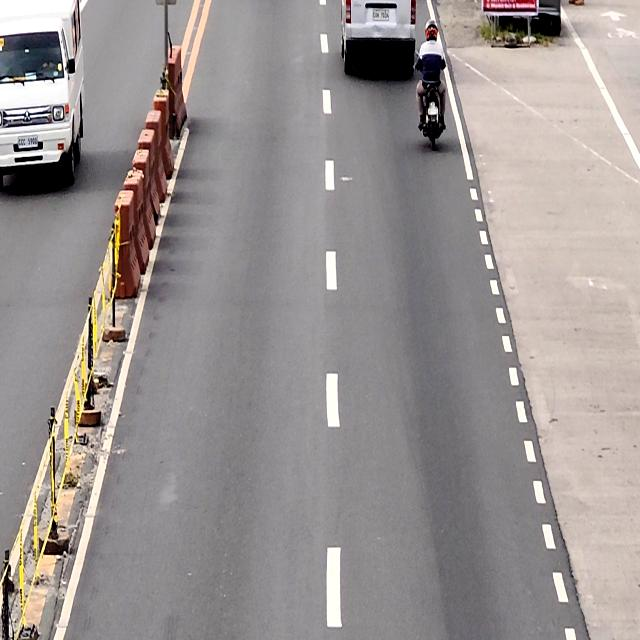Car: (339, 0, 417, 72)
License-Plate: (372, 9, 389, 21), (428, 106, 438, 115)
Motorcycle: (416, 46, 446, 152)
